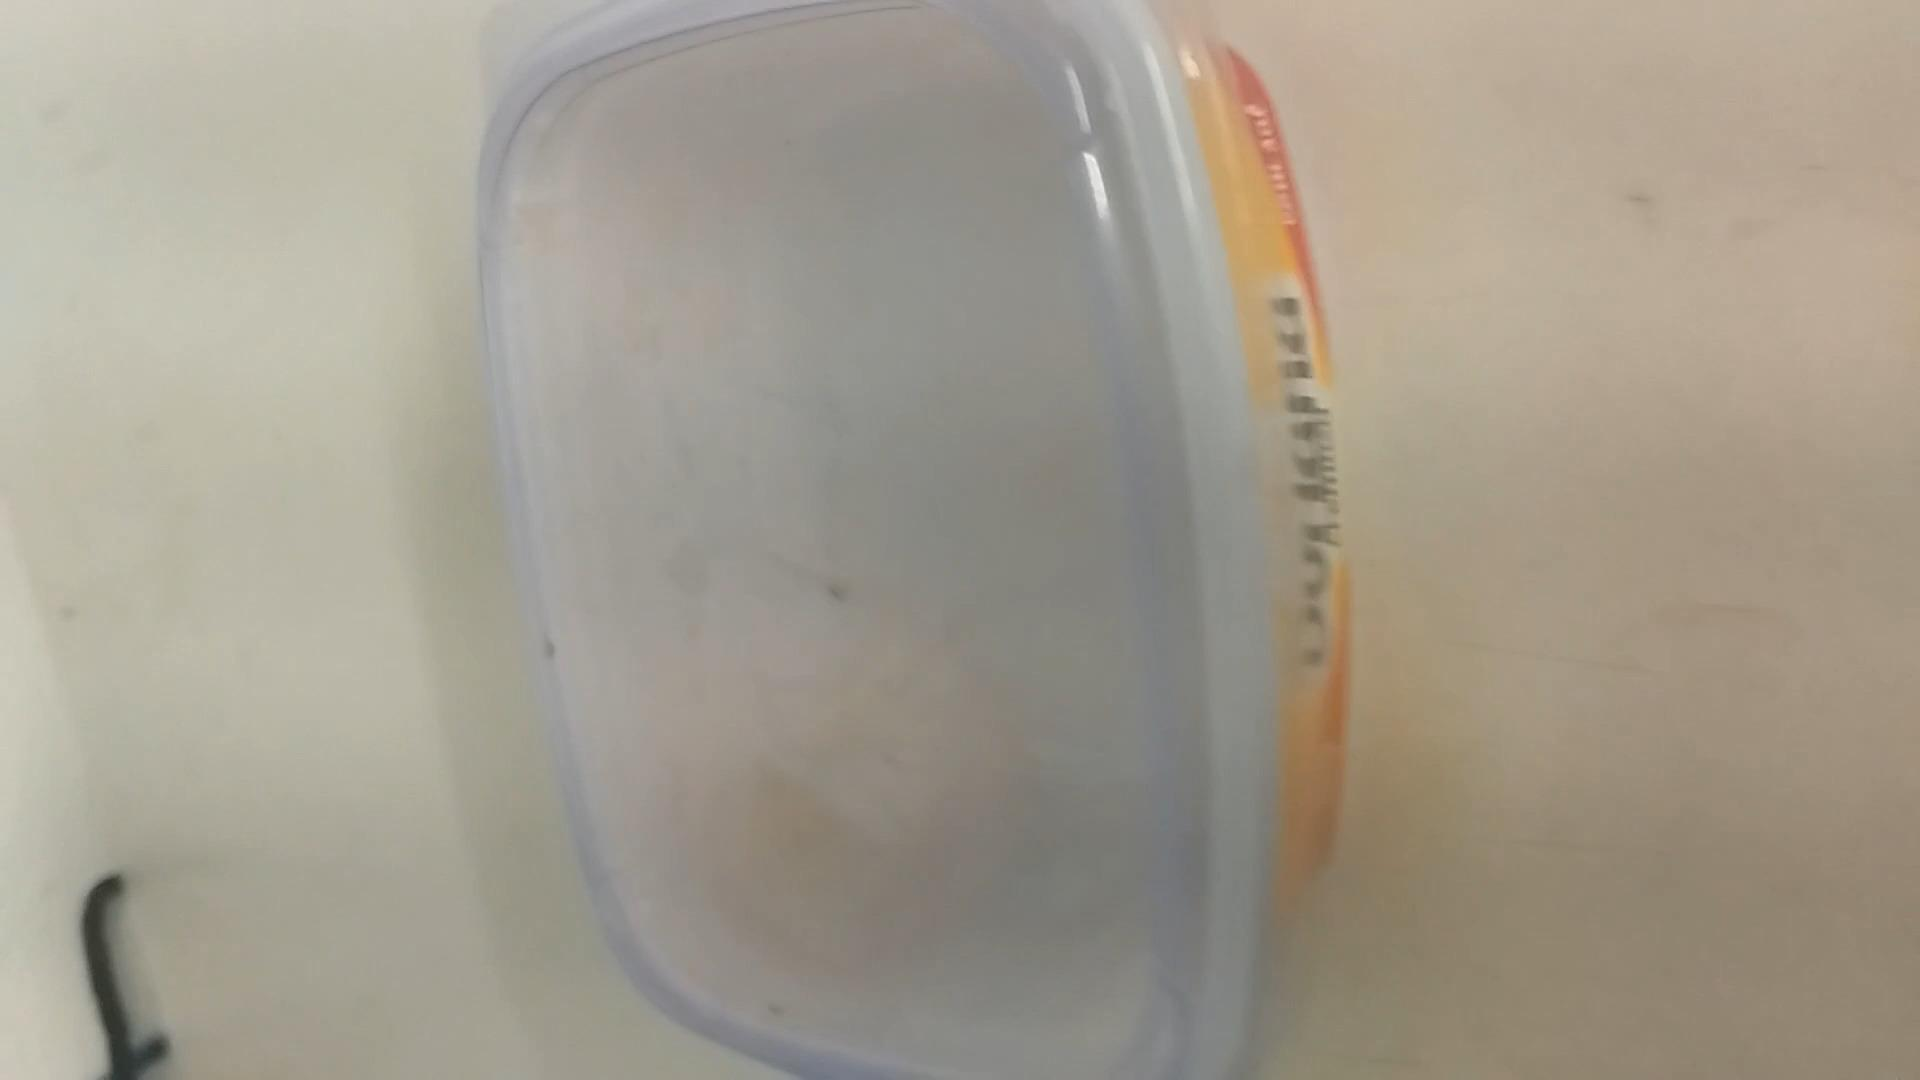butter: (481, 0, 1327, 1077)
